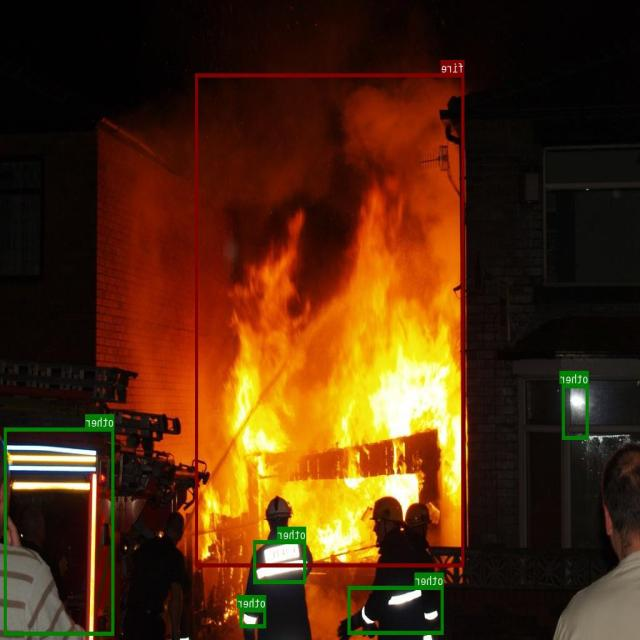fire: (196, 73, 465, 566)
other: (5, 427, 114, 635), (348, 586, 444, 633), (254, 540, 307, 582), (562, 383, 590, 439), (240, 608, 267, 628)
